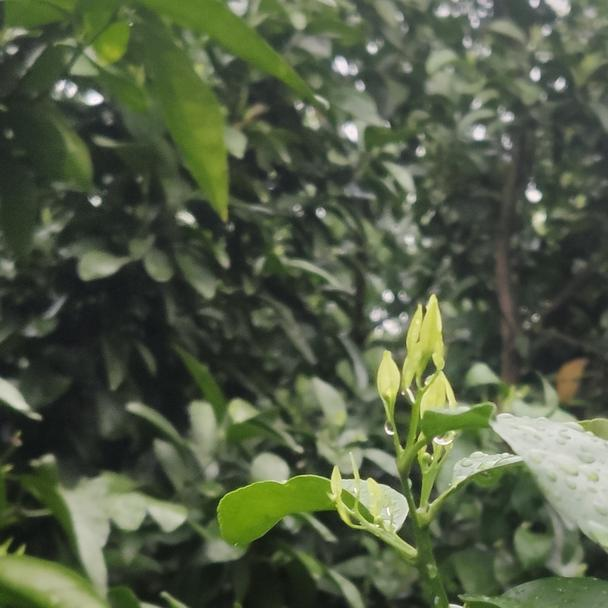shoot: (382, 300, 450, 408), (329, 459, 402, 541)
